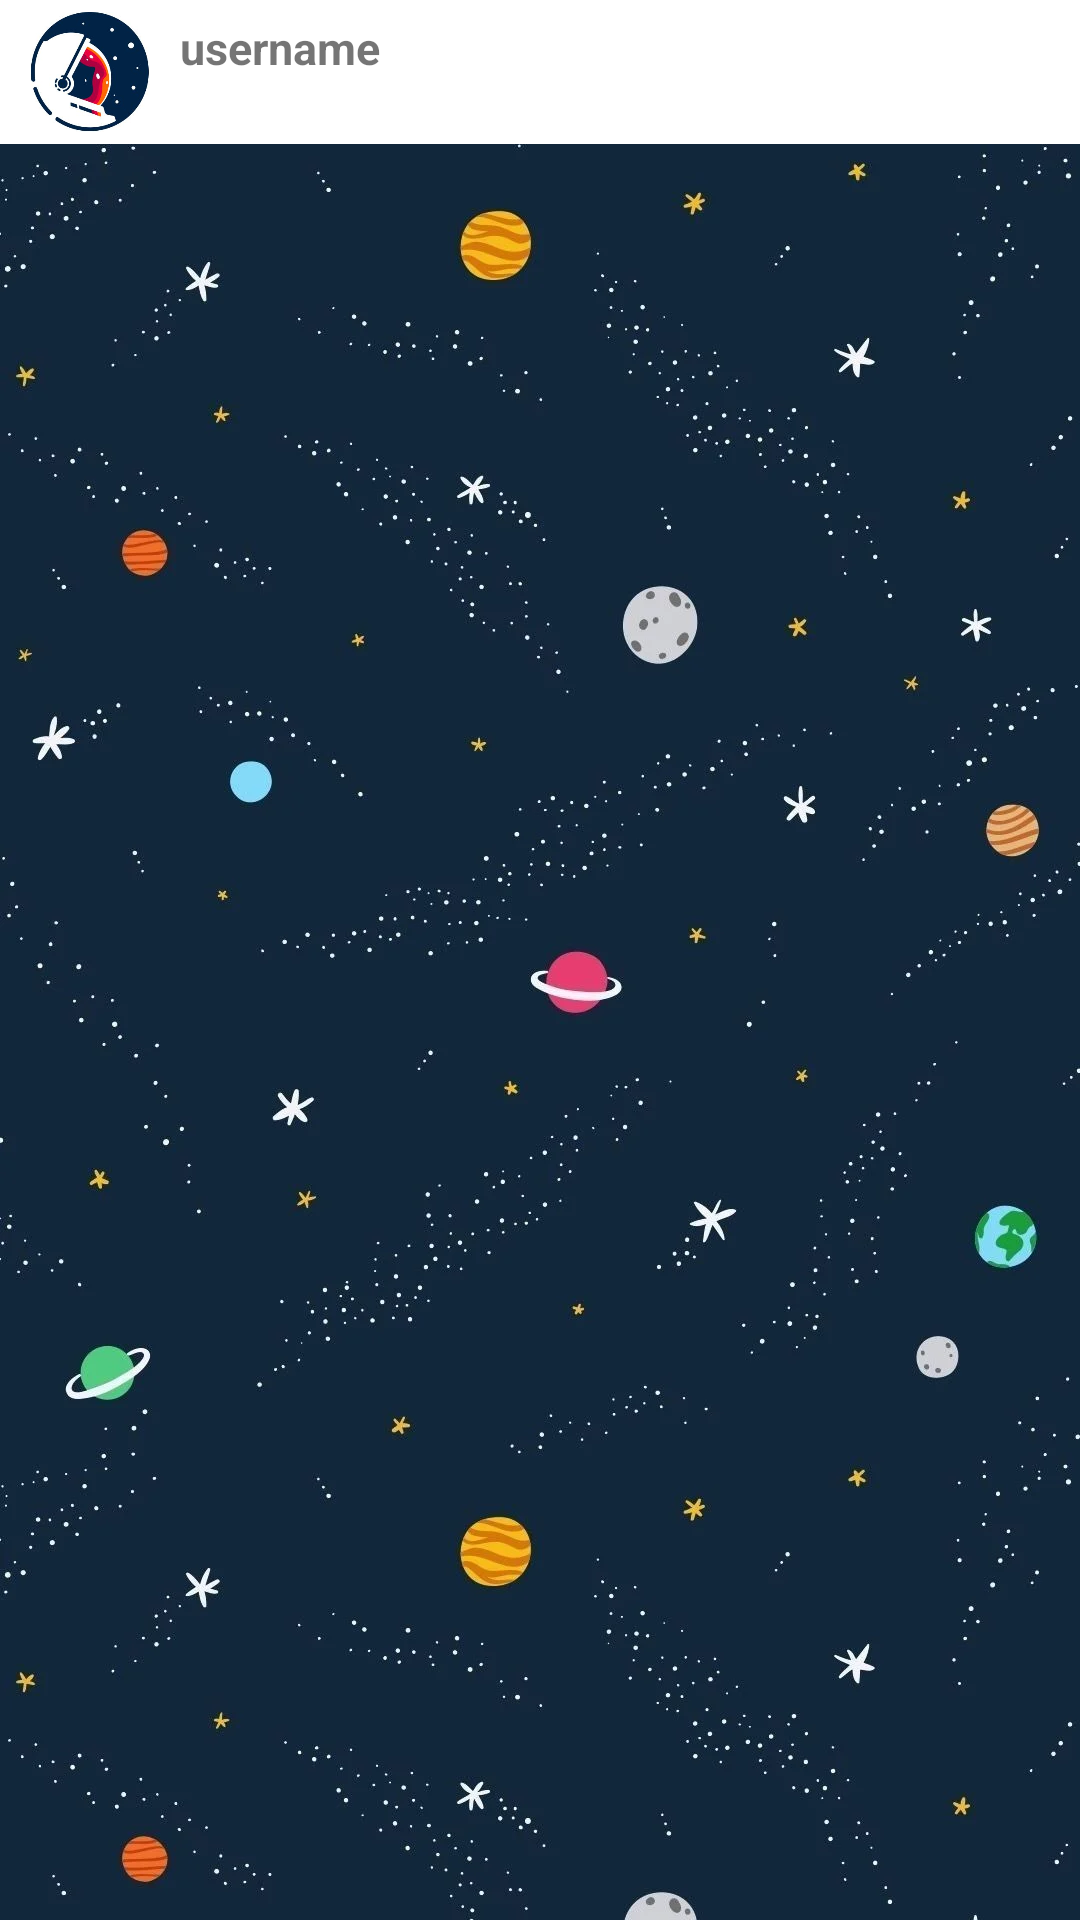

Point at icon controls on the screen. Image size 1080w x 1920h, points as [x,y].
avt: [90,71]
